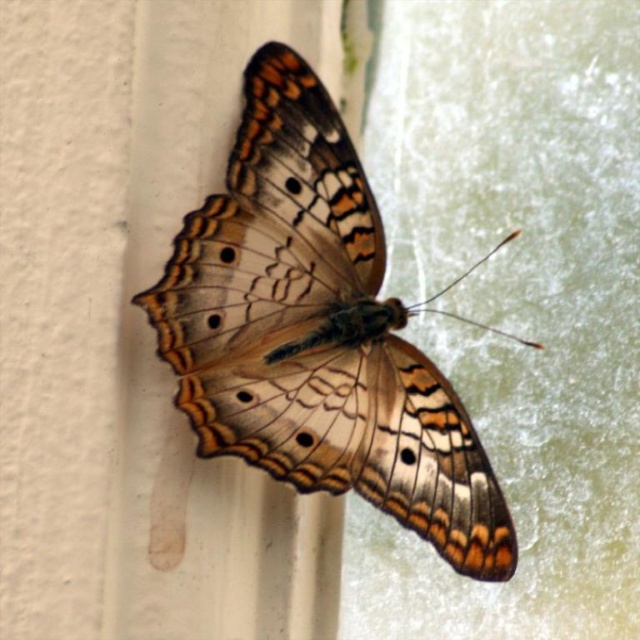Moths and butterflies: (130, 36, 549, 583)
